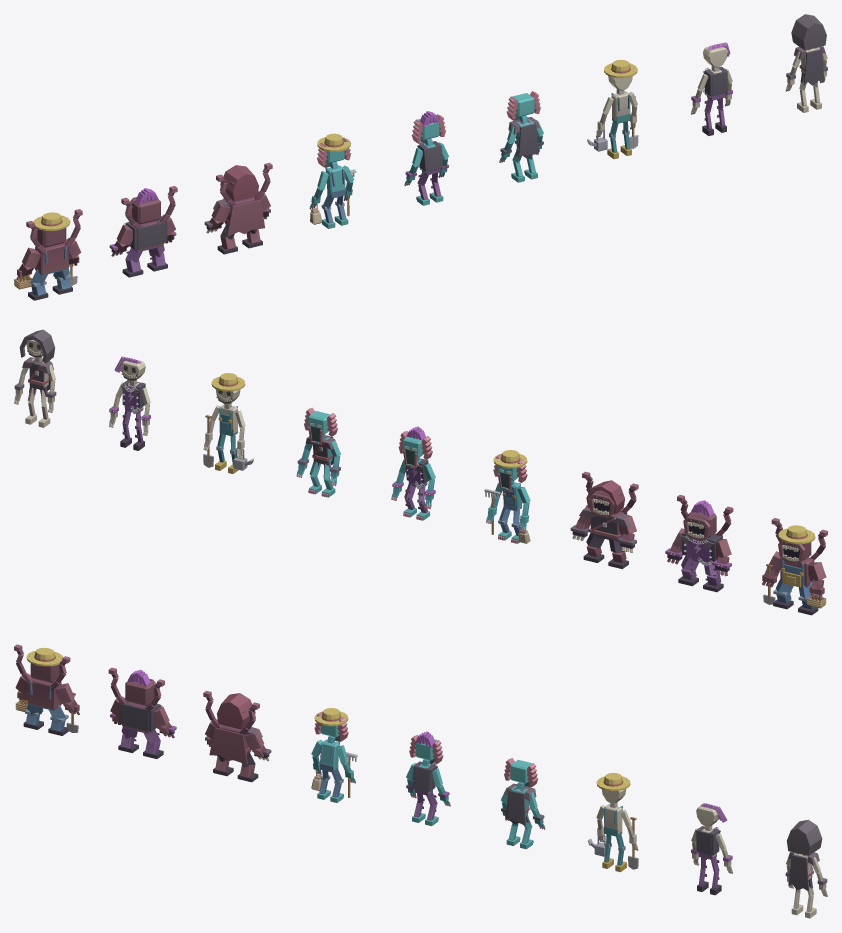
Rendered from GrowAMonster_CollectionV2.glb.
The picture shows the model from 3 angles, top to bottom: view 1: azimuth 30°, elevation 25°; view 2: azimuth 150°, elevation 25°; view 3: azimuth 330°, elevation 25°; orthographic projection.
Parts seen in each view (by area): view 1: Parasite_Assassin__Body, Parasite_Assassin__Head, Parasite_Farmer__Head, Verity_Assassin__Head, Parasite_Punk__Body, Stalker_Assassin__Body, Stalker_Farmer__Head, Verity_Assassin__Body, Parasite_Punk__Head, Parasite_Farmer__Body, Stalker_Punk__Head, Verity_Farmer__Head (+5 smaller); view 2: Parasite_Farmer__Head, Parasite_Assassin__Head, Stalker_Farmer__Head, Parasite_Punk__Head, Stalker_Punk__Head, Parasite_Assassin__Body, Parasite_Punk__Body, Stalker_Assassin__Head, Verity_Assassin__Head, Verity_Assassin__Body, Parasite_Farmer__Body, Verity_Farmer__Head (+5 smaller); view 3: Parasite_Assassin__Body, Parasite_Assassin__Head, Verity_Assassin__Head, Parasite_Farmer__Head, Parasite_Punk__Body, Stalker_Assassin__Body, Stalker_Farmer__Head, Verity_Assassin__Body, Parasite_Punk__Head, Parasite_Farmer__Body, Stalker_Punk__Head, Stalker_Assassin__Head (+6 smaller).
Part boxes in pixels (x1,y1,x2,y2): Parasite_Assassin__Body: [213, 191, 267, 236]; Parasite_Assassin__Head: [220, 165, 258, 201]; Parasite_Farmer__Head: [33, 212, 70, 247]; Verity_Assassin__Head: [791, 14, 826, 50]; Parasite_Punk__Body: [124, 216, 167, 252]; Stalker_Assassin__Body: [508, 115, 540, 158]; Stalker_Farmer__Head: [317, 133, 350, 167]; Verity_Assassin__Body: [794, 46, 825, 85]; Parasite_Punk__Head: [130, 188, 160, 224]; Parasite_Farmer__Body: [35, 242, 68, 275]; Stalker_Punk__Head: [411, 111, 445, 144]; Verity_Farmer__Head: [604, 59, 637, 90]; Parasite_Farmer__Head: [778, 525, 815, 564]; Parasite_Assassin__Head: [586, 480, 624, 517]; Stalker_Farmer__Head: [493, 450, 527, 491]; Parasite_Punk__Head: [683, 500, 716, 541]; Stalker_Punk__Head: [398, 426, 432, 467]; Parasite_Assassin__Body: [579, 506, 630, 541]; Parasite_Punk__Body: [680, 532, 722, 565]; Stalker_Assassin__Head: [304, 407, 337, 444]; Verity_Assassin__Head: [19, 329, 55, 363]; Verity_Assassin__Body: [22, 357, 53, 396]; Parasite_Farmer__Body: [780, 557, 814, 587]; Verity_Farmer__Head: [211, 373, 245, 404]; Parasite_Assassin__Body: [208, 719, 262, 764]; Parasite_Assassin__Head: [217, 693, 255, 729]; Verity_Assassin__Head: [787, 819, 822, 855]; Parasite_Farmer__Head: [26, 647, 63, 682]; Parasite_Punk__Body: [119, 698, 161, 733]; Stalker_Assassin__Body: [504, 782, 536, 825]; Stalker_Farmer__Head: [314, 708, 348, 741]; Verity_Assassin__Body: [788, 852, 819, 891]; Parasite_Punk__Head: [125, 669, 156, 705]; Parasite_Farmer__Body: [27, 677, 61, 710]; Stalker_Punk__Head: [409, 731, 443, 764]; Stalker_Assassin__Head: [504, 758, 537, 787].
Bounding box in the file's own units: 68.26 × 7.46 × 2.8.
